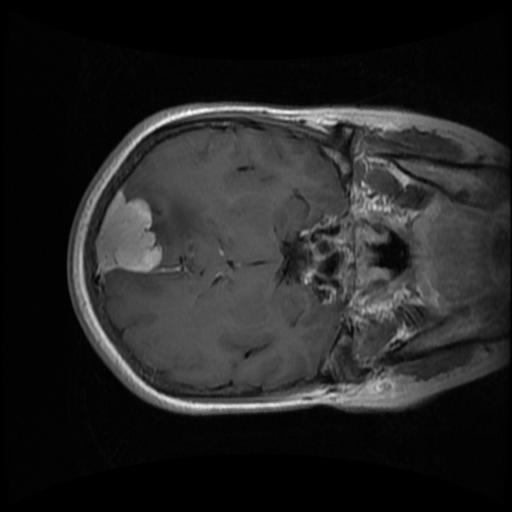meningioma: (94, 190, 163, 274)
